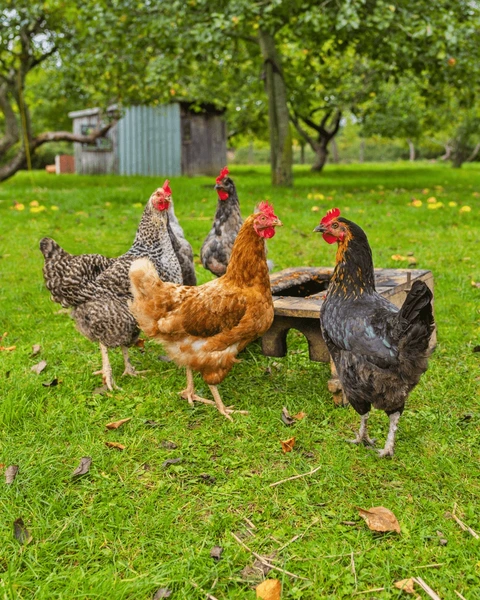Healthy: (125, 195, 287, 427), (311, 201, 443, 463), (35, 178, 192, 393), (199, 160, 276, 290)
